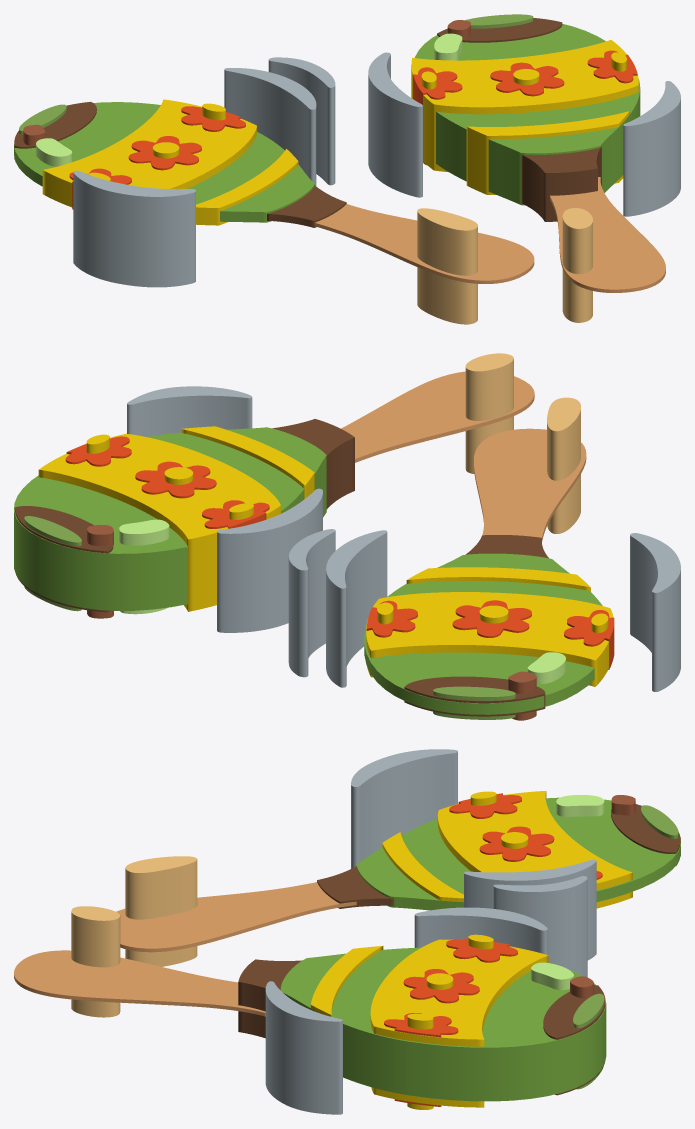
File: emoji_u1fa87.glb
3 views of the same model, one above another, from view 1: azimuth 30°, elevation 25°; view 2: azimuth 150°, elevation 25°; view 3: azimuth 270°, elevation 25° (orthographic). The views are drawn at different scales.
Parts seen in each view (by area): view 1: emoji_u1fa87; view 2: emoji_u1fa87; view 3: emoji_u1fa87.
Boxes of the visible parts, x1,y1,x2,y2 form: emoji_u1fa87: [14, 14, 680, 324]; emoji_u1fa87: [14, 353, 680, 720]; emoji_u1fa87: [14, 749, 680, 1114].
Bounding box in the file's own units: 0.0334 × 0.0056 × 0.0338.
